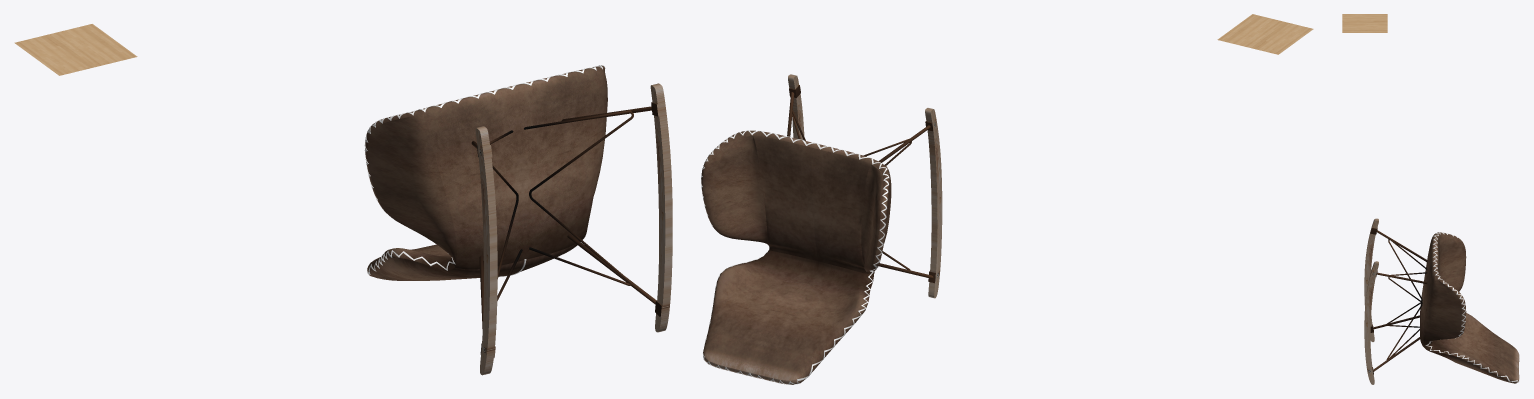
Rendered from asset.gltf.
3 views of the same model, side by side, from view 1: azimuth 30°, elevation 25°; view 2: azimuth 150°, elevation 25°; view 3: azimuth 270°, elevation 25° (orthographic). The views are drawn at different scales.
Visible parts, largest first — view 1: 3DGeom-4, 3DGeom-2, 3DGeom-1 (×2), 3DGeom-3; view 2: 3DGeom-4, 3DGeom-1 (×2), 3DGeom-2, 3DGeom-3; view 3: 3DGeom-4, 3DGeom-1 (×2), 3DGeom-2, 3DGeom-3.
Part boxes in pixels (bbox=[...]): 3DGeom-4: bbox=[365, 65, 607, 280]; 3DGeom-2: bbox=[475, 83, 672, 375]; 3DGeom-1 (×2): bbox=[14, 24, 661, 346]; 3DGeom-3: bbox=[364, 65, 605, 276]; 3DGeom-4: bbox=[701, 130, 891, 384]; 3DGeom-1 (×2): bbox=[787, 14, 1313, 283]; 3DGeom-2: bbox=[788, 74, 942, 298]; 3DGeom-3: bbox=[701, 130, 889, 384]; 3DGeom-4: bbox=[1420, 232, 1519, 383]; 3DGeom-1 (×2): bbox=[1342, 14, 1427, 374]; 3DGeom-2: bbox=[1364, 218, 1378, 384]; 3DGeom-3: bbox=[1425, 232, 1519, 383].
Bounding box in the file's own units: 84.41 × 54.83 × 39.16.
Materials: 5 (4 with a texture image).
